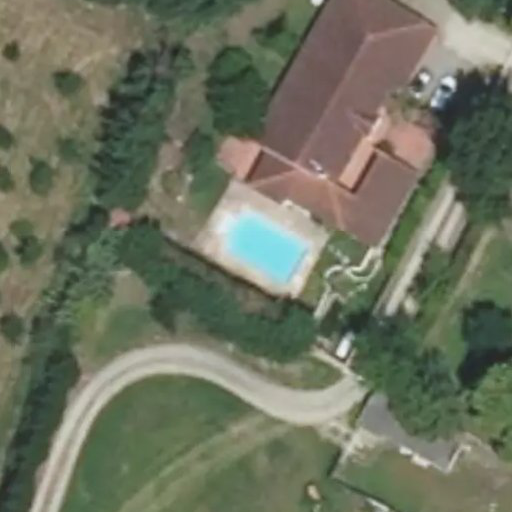pool: (218, 207, 309, 288)
